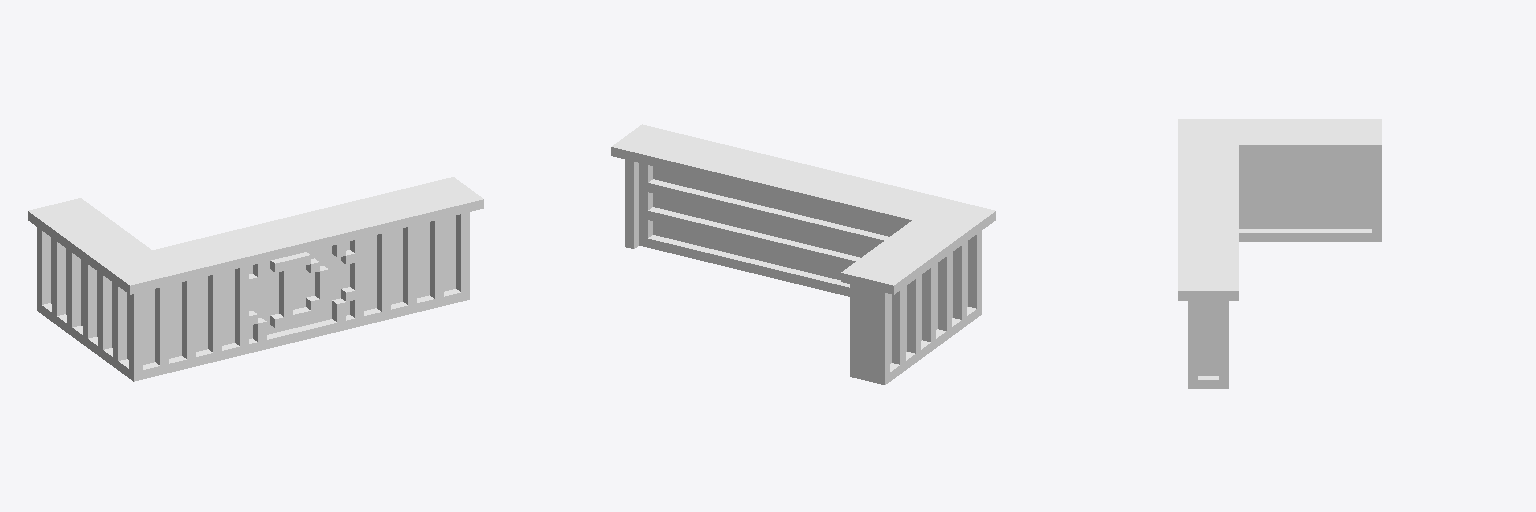
Rendered from BarTable.obj.
3 renders of one model, left to right at view 1: azimuth 30°, elevation 25°; view 2: azimuth 150°, elevation 25°; view 3: azimuth 270°, elevation 25°, orthographic.
Parts seen in each view (by area): view 1: object 1; view 2: object 1; view 3: object 1.
Part boxes in pixels (left/top/right/bottom): object 1: left=28, top=177, right=483, bottom=381; object 1: left=611, top=124, right=995, bottom=384; object 1: left=1178, top=119, right=1381, bottom=388.
Bounding box in the file's own units: 4 × 1.1 × 2.